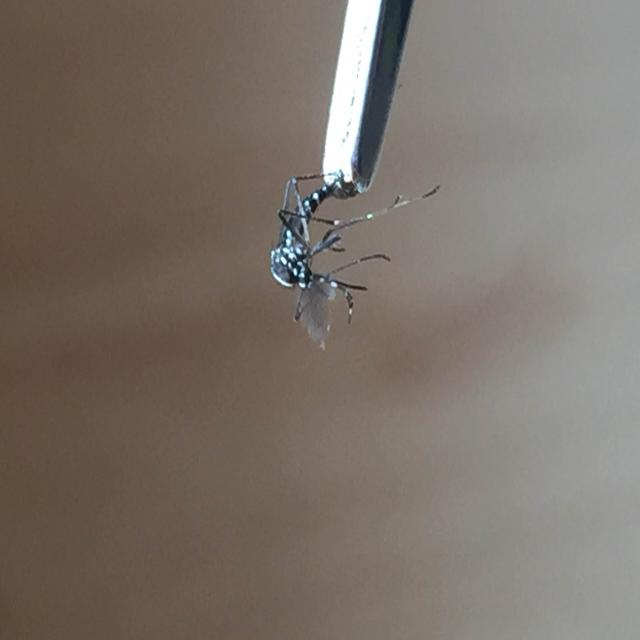albopictus: (262, 112, 441, 330)
